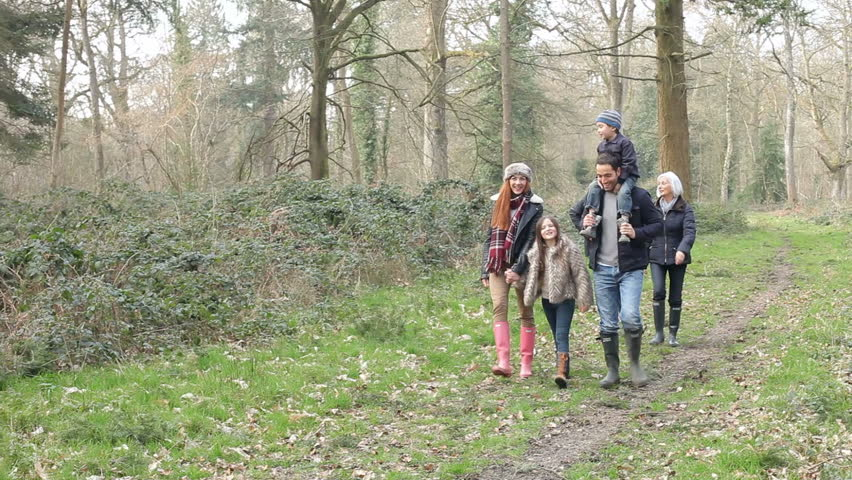Person: (565, 161, 674, 395), (467, 153, 553, 393), (502, 216, 594, 404), (629, 162, 705, 359), (564, 101, 650, 252)
